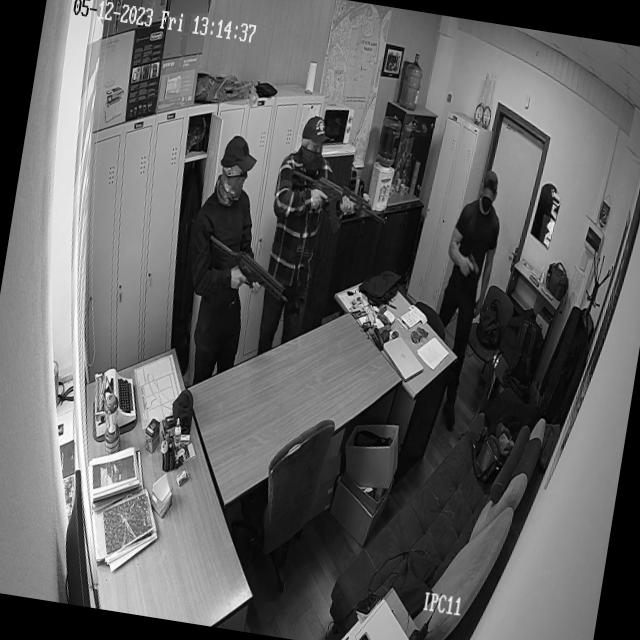gun: (281, 164, 392, 246), (194, 228, 296, 308), (460, 248, 482, 284)
person with a gun: (256, 106, 406, 320), (176, 123, 312, 342), (432, 163, 508, 352)
